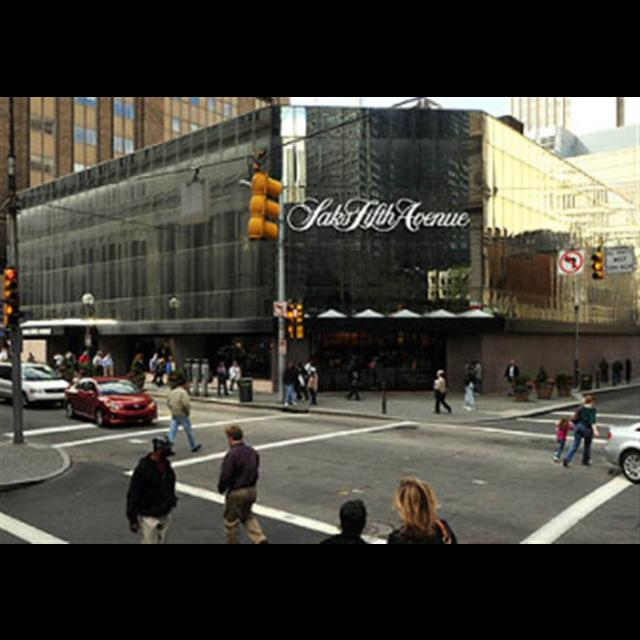head: (396, 480, 430, 520), (338, 501, 368, 534), (154, 436, 173, 456), (228, 428, 244, 447), (178, 377, 188, 389), (589, 394, 597, 404), (437, 370, 445, 378), (562, 416, 570, 422), (464, 362, 472, 368), (288, 360, 294, 368), (298, 364, 304, 372), (98, 349, 104, 356), (474, 358, 480, 364), (232, 359, 238, 365), (84, 351, 90, 357), (510, 359, 514, 365), (219, 362, 225, 366), (161, 358, 165, 364), (354, 362, 358, 366), (310, 371, 314, 375), (154, 354, 158, 358), (604, 362, 606, 364)
person: (162, 376, 204, 456), (561, 391, 601, 469), (552, 415, 576, 463), (431, 368, 455, 416), (282, 358, 300, 408), (344, 358, 364, 402), (502, 358, 522, 398), (462, 360, 476, 412), (294, 362, 310, 404), (306, 362, 320, 406), (228, 358, 244, 396), (150, 356, 168, 388), (216, 360, 230, 398), (148, 350, 162, 388), (78, 349, 92, 387), (471, 358, 484, 397), (92, 349, 105, 387), (598, 356, 610, 386)
